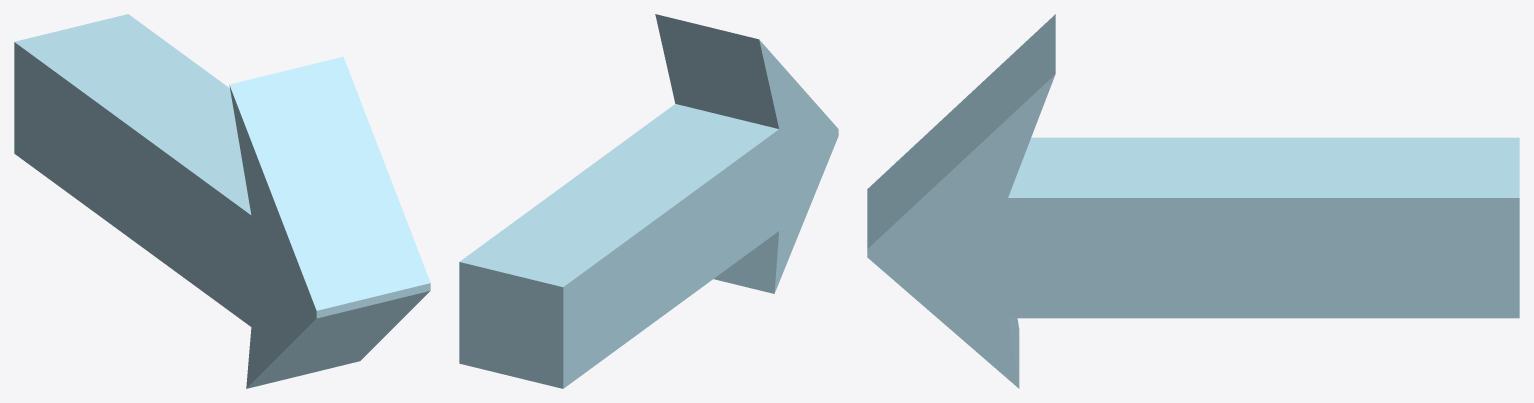
Rendered from arrow.glb.
The picture shows the model from 3 angles, left to right: view 1: azimuth 30°, elevation 25°; view 2: azimuth 150°, elevation 25°; view 3: azimuth 270°, elevation 25°; orthographic projection. The views are drawn at different scales.
Parts seen in each view (by area): view 1: Cube; view 2: Cube; view 3: Cube.
Part boxes in pixels (left/top/right/bottom): Cube: left=14, top=14, right=430, bottom=388; Cube: left=459, top=14, right=838, bottom=388; Cube: left=867, top=14, right=1519, bottom=388.
Size of the model in its own units: 0.1969 by 0.4817 by 0.904.
